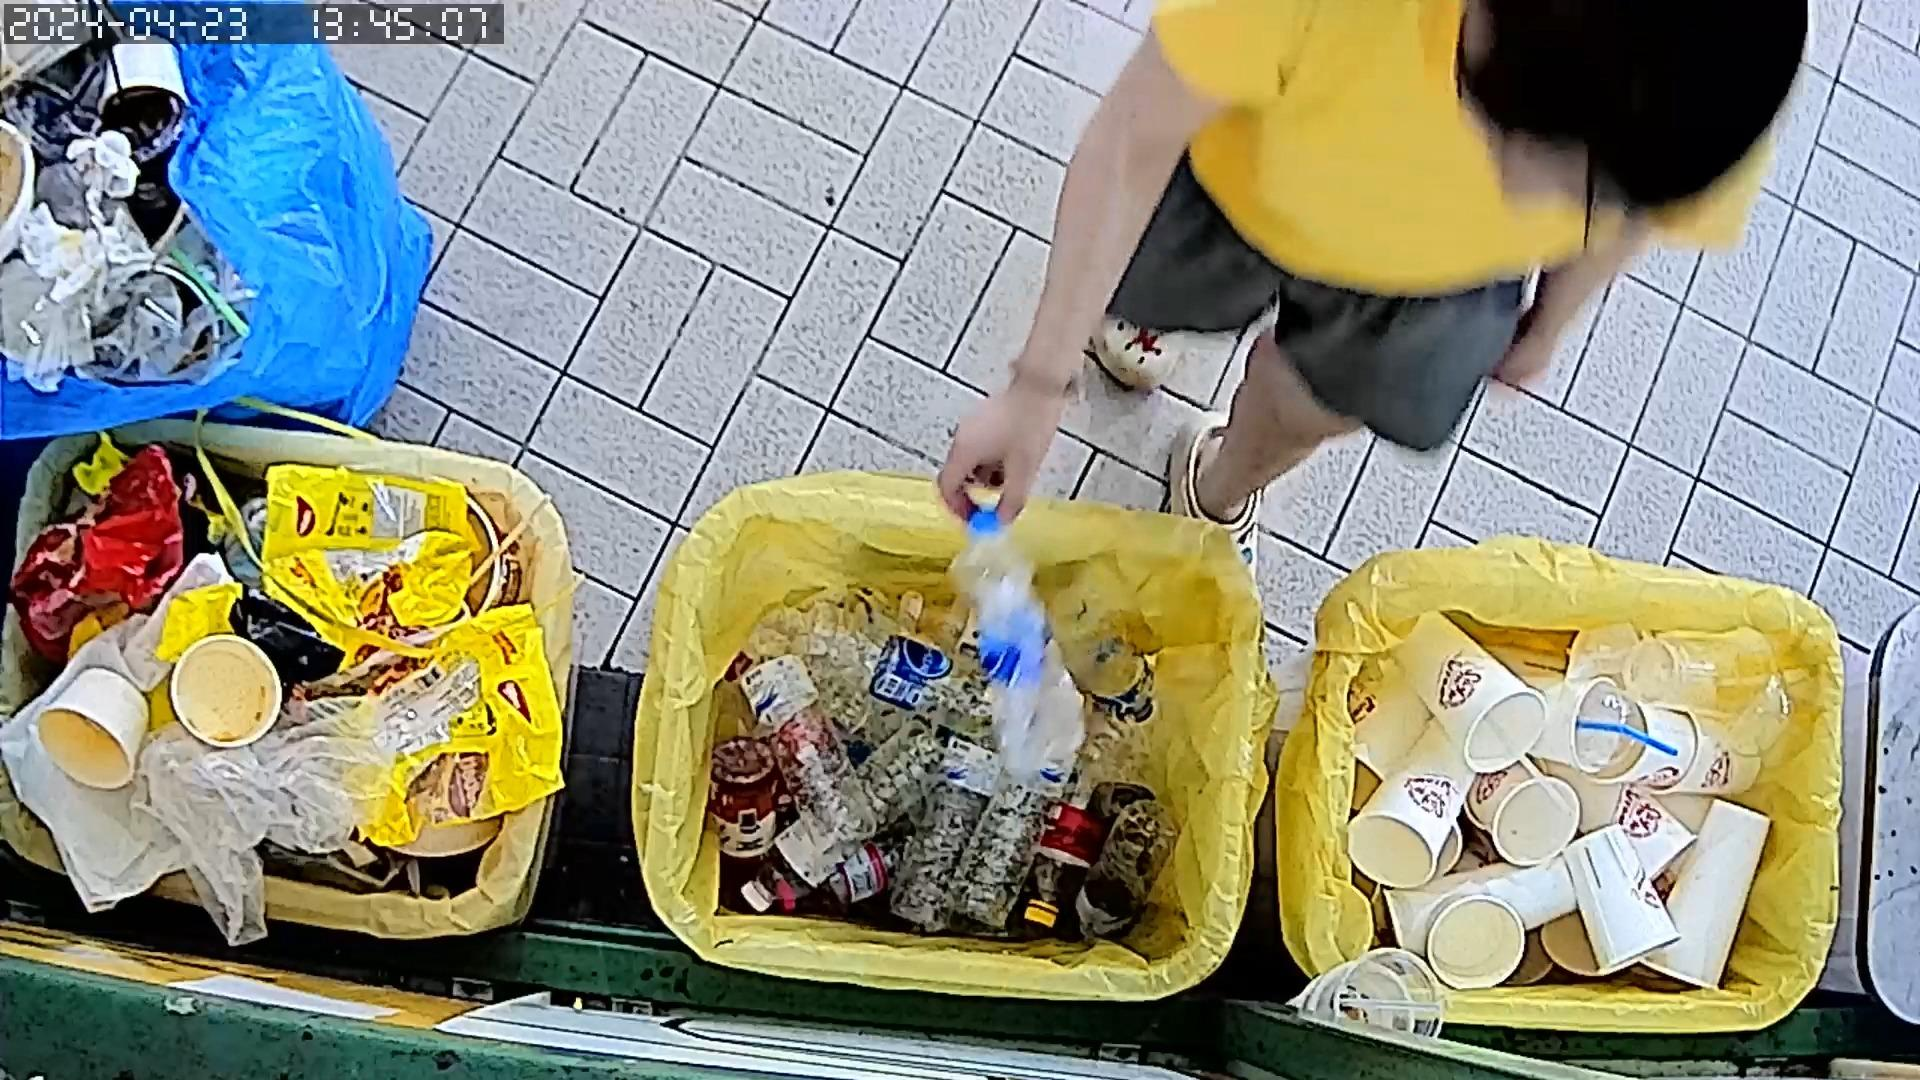can: (700, 731, 782, 866)
food container: (30, 661, 149, 802), (169, 626, 284, 753), (1415, 884, 1526, 990)
plastic bag: (1, 551, 233, 918), (142, 692, 400, 945)
plastic bottle: (733, 708, 959, 914), (874, 683, 1023, 931), (786, 597, 1031, 740), (731, 622, 864, 856), (1017, 705, 1135, 927), (1039, 575, 1156, 728), (1067, 795, 1176, 943)
plastic cup: (1617, 618, 1772, 712), (1714, 669, 1793, 757), (1571, 676, 1638, 771)
snack packaging: (335, 600, 571, 853), (9, 444, 183, 667), (256, 459, 475, 636), (152, 576, 240, 670)
sticks: (465, 491, 550, 587)
straw: (1480, 712, 1569, 814), (164, 241, 249, 340), (1571, 715, 1676, 756), (1333, 992, 1435, 1009)
tissue paper: (11, 203, 127, 309), (62, 133, 135, 200)
zero waste cup: (1386, 604, 1551, 774), (1633, 793, 1771, 988), (1342, 712, 1481, 890), (1375, 847, 1576, 964), (1555, 819, 1680, 977), (1498, 666, 1617, 771), (1635, 696, 1758, 796), (1465, 760, 1581, 865)
